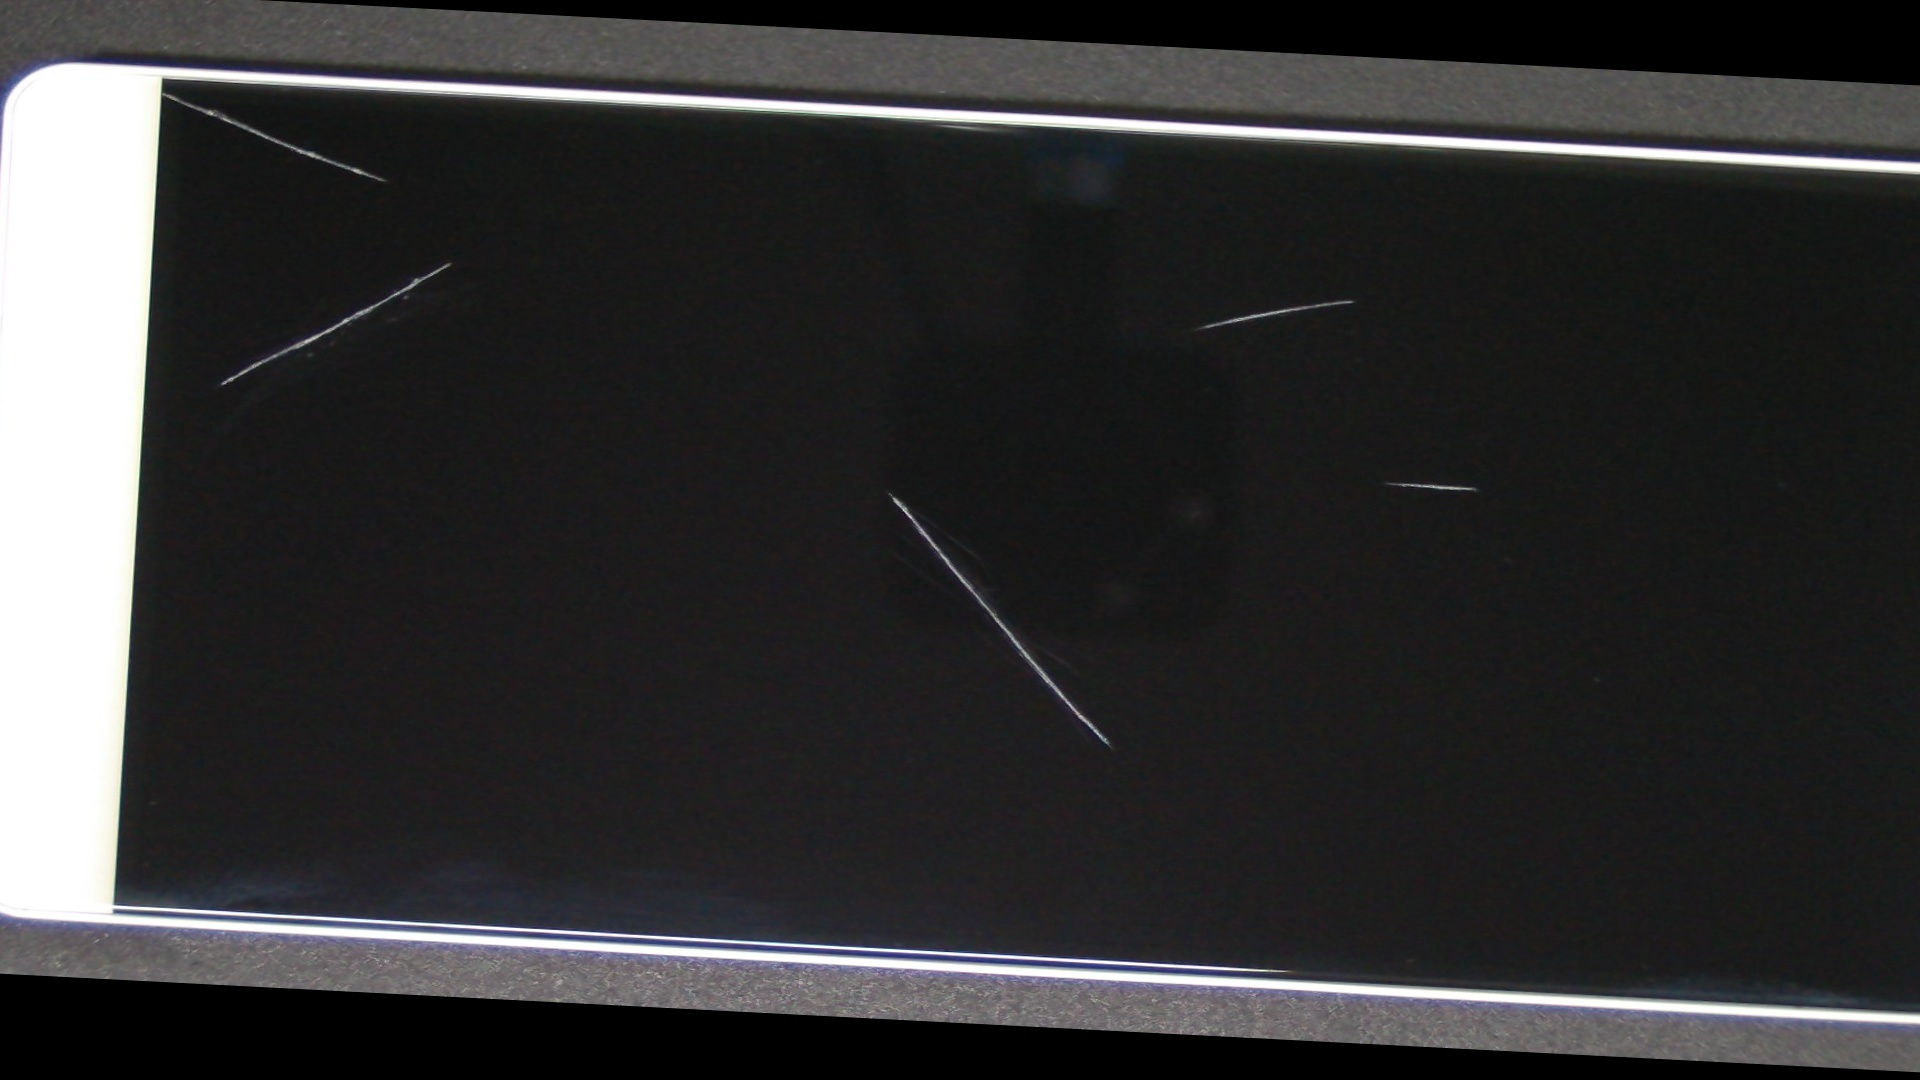oil: (651, 232, 1920, 731), (394, 237, 1381, 746), (640, 141, 1920, 458), (187, 123, 713, 400), (50, 37, 274, 146)
